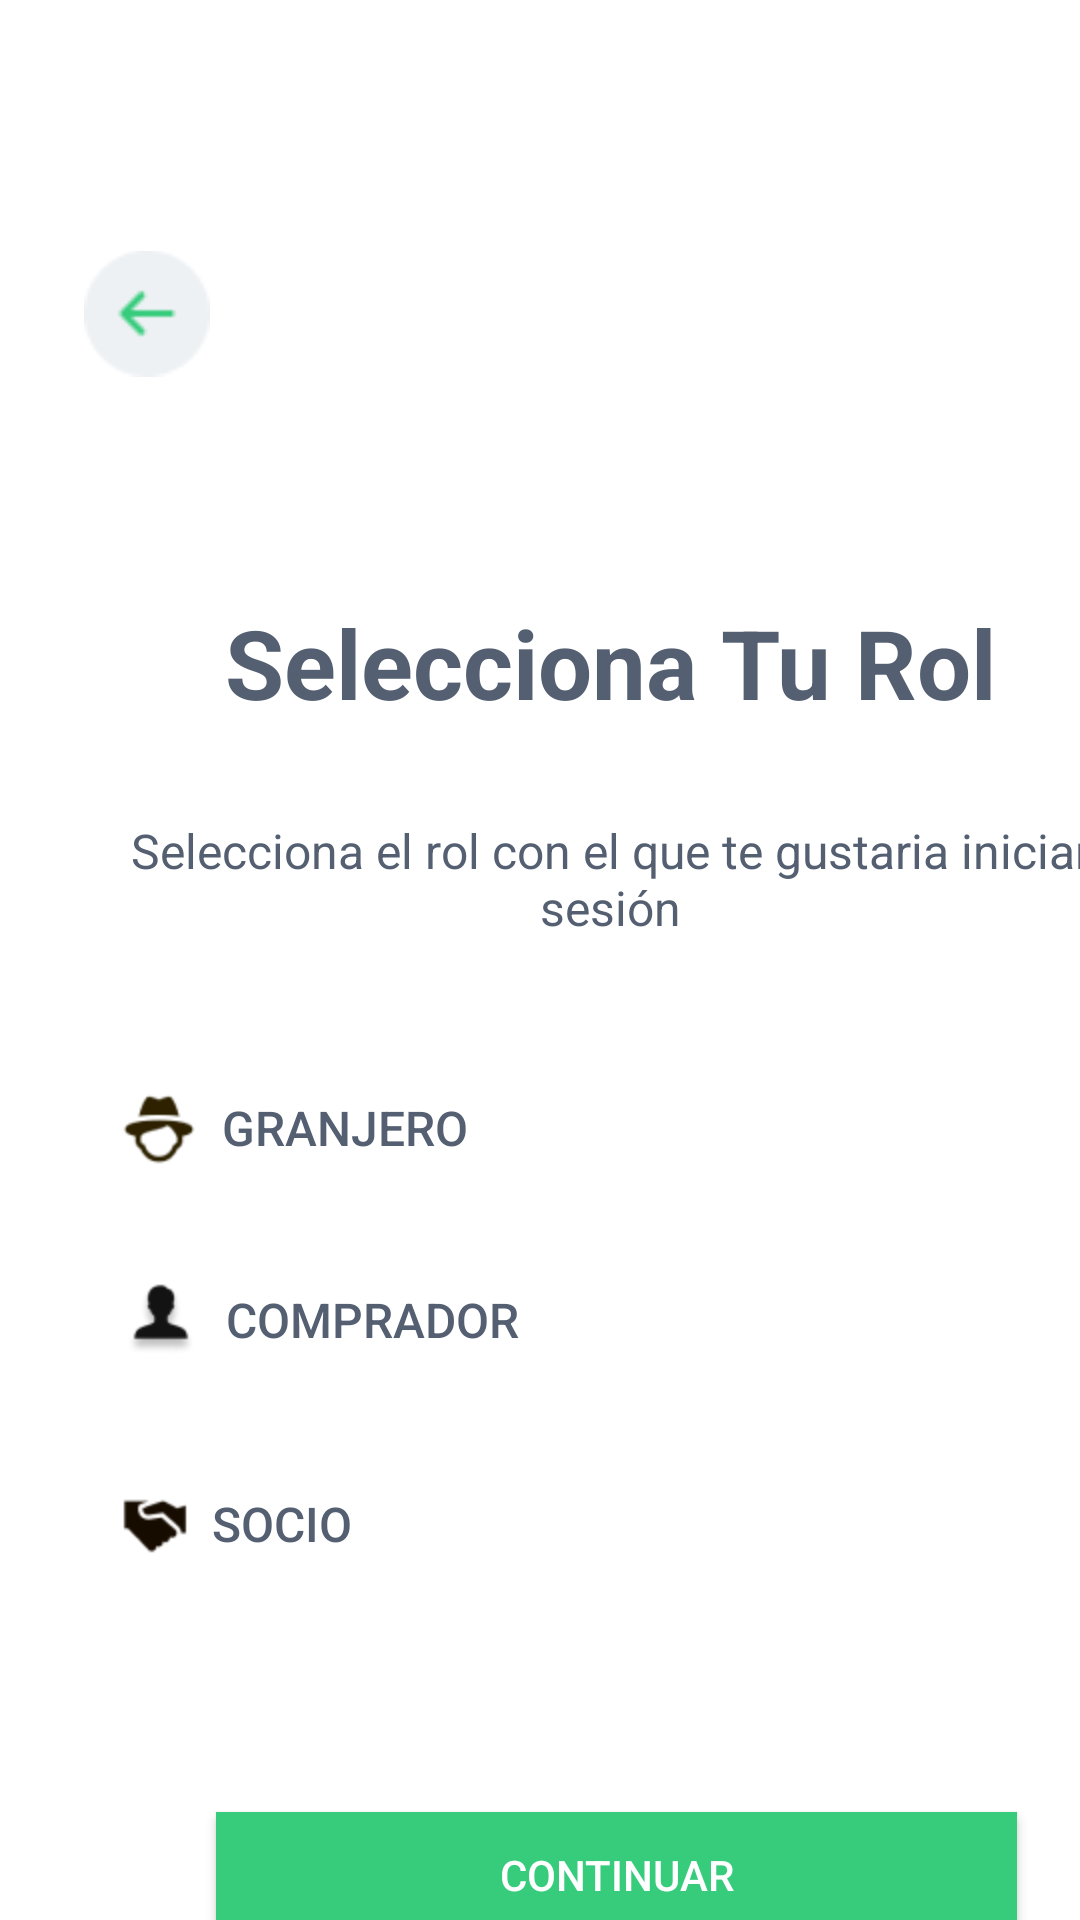

Icons on this 1080px×1920px Android screen, each with the point to tap as (x=x, y=y):
Regresar: (x=147, y=314)
